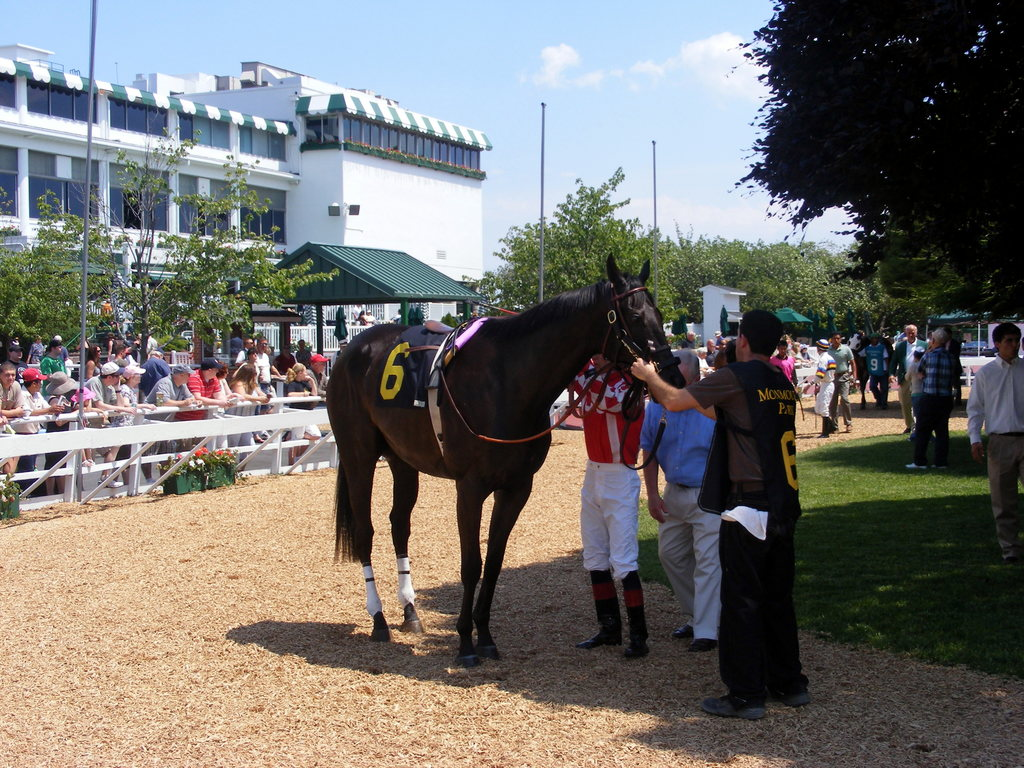horse: (330, 250, 687, 669)
